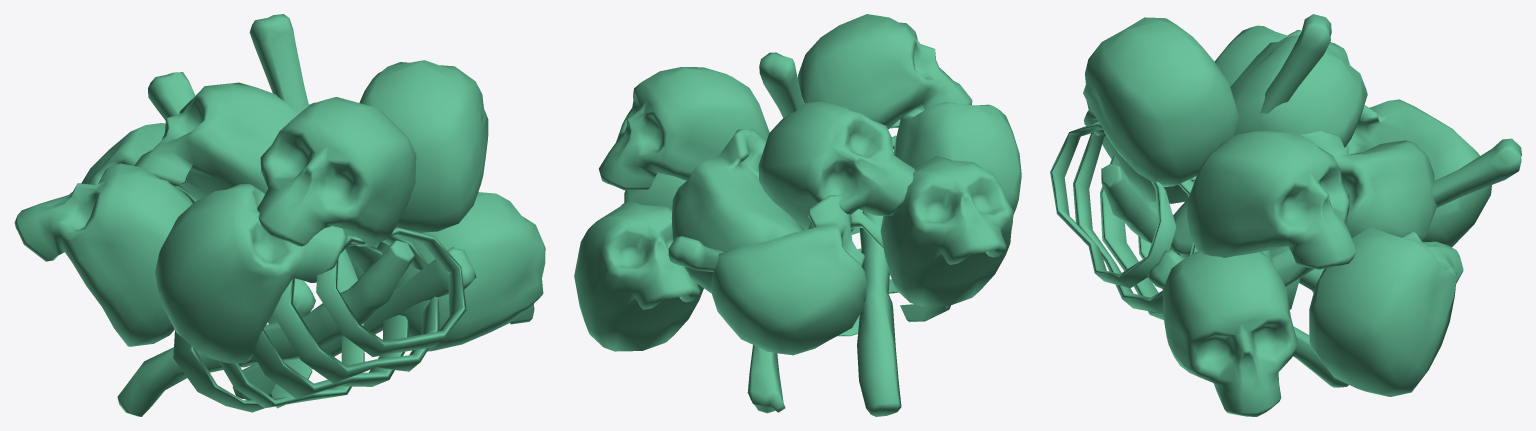
Rendered from Bones_Barrel_01_Lod0.fbx.
The picture shows the model from 3 angles, left to right: view 1: azimuth 30°, elevation 25°; view 2: azimuth 150°, elevation 25°; view 3: azimuth 270°, elevation 25°; orthographic projection. The views are drawn at different scales.
Visible parts, largest first — view 1: Bones_Barrel_01_Lod0; view 2: Bones_Barrel_01_Lod0; view 3: Bones_Barrel_01_Lod0.
Part boxes in pixels (x1=…): Bones_Barrel_01_Lod0: x1=14, y1=14, x2=545, y2=416; Bones_Barrel_01_Lod0: x1=574, y1=14, x2=1021, y2=416; Bones_Barrel_01_Lod0: x1=1050, y1=14, x2=1521, y2=416.
Bounding box in the file's own units: 54.79 × 43.5 × 50.59.
